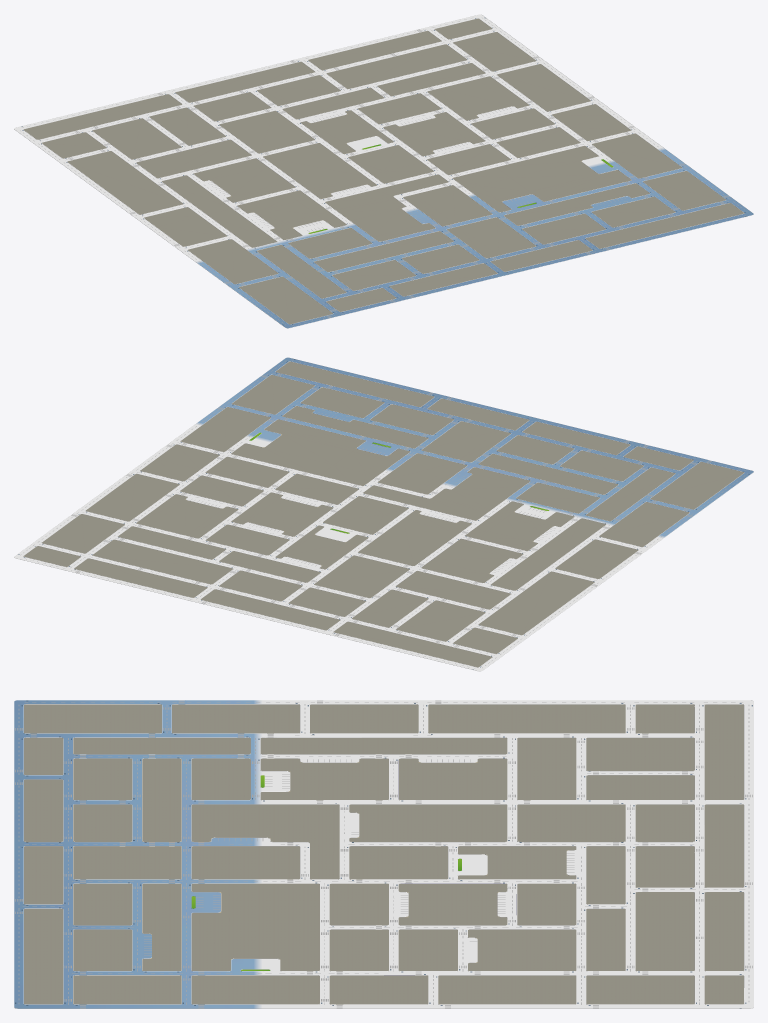
Rendered from Roadss.fbx.
3 views of the same model, one above another, from view 1: azimuth 30°, elevation 25°; view 2: azimuth 150°, elevation 25°; view 3: azimuth 270°, elevation 25° (orthographic). The views are drawn at different scales.
Parts seen in each view (by area): view 1: Road_01, Road_02, Road_04, Road_03; view 2: Road_04, Road_03, Road_01, Road_02; view 3: Road_03, Road_01, Road_02, Road_04.
Part boxes in pixels (x1,y1,x2,y2): Road_01: (247,14,617,171); Road_02: (14,71,383,228); Road_04: (384,114,753,271); Road_03: (150,171,520,328); Road_04: (150,357,520,514); Road_03: (384,414,753,571); Road_01: (14,457,383,614); Road_02: (247,514,617,671); Road_03: (14,700,383,854); Road_01: (384,854,753,1008); Road_02: (384,700,753,854); Road_04: (14,854,383,1008).
Bounding box in the file's own units: 37000 × 37500 × 18.84.
